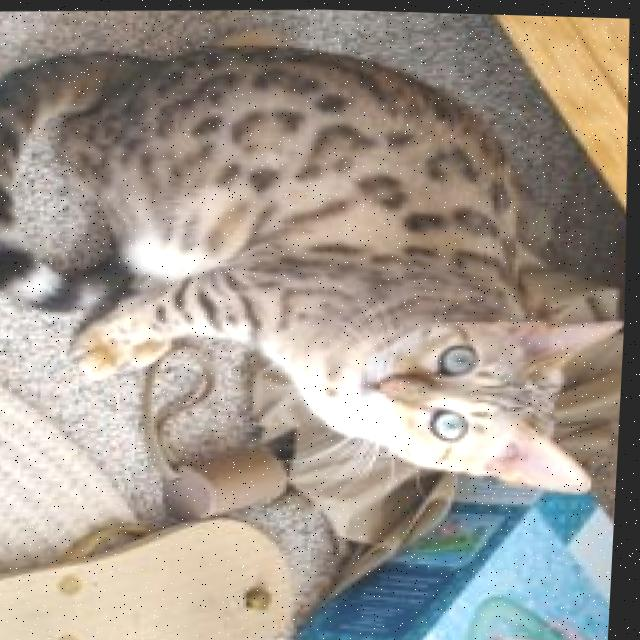Bengal: (0, 15, 639, 514)
